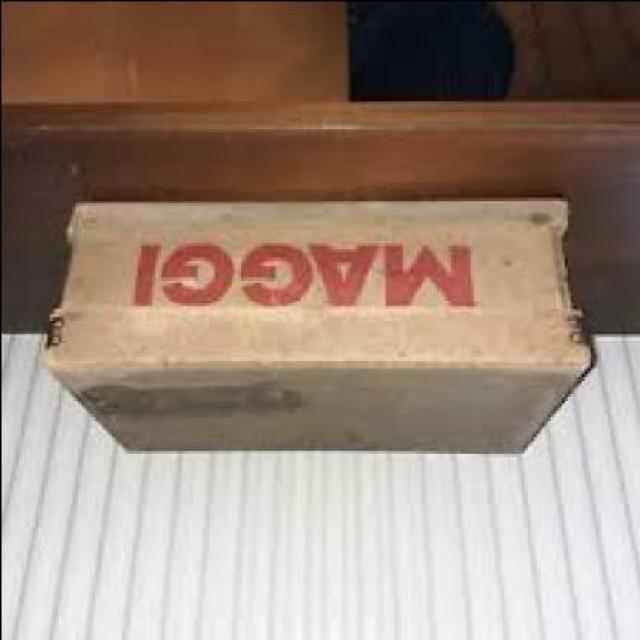box: (46, 197, 597, 455)
